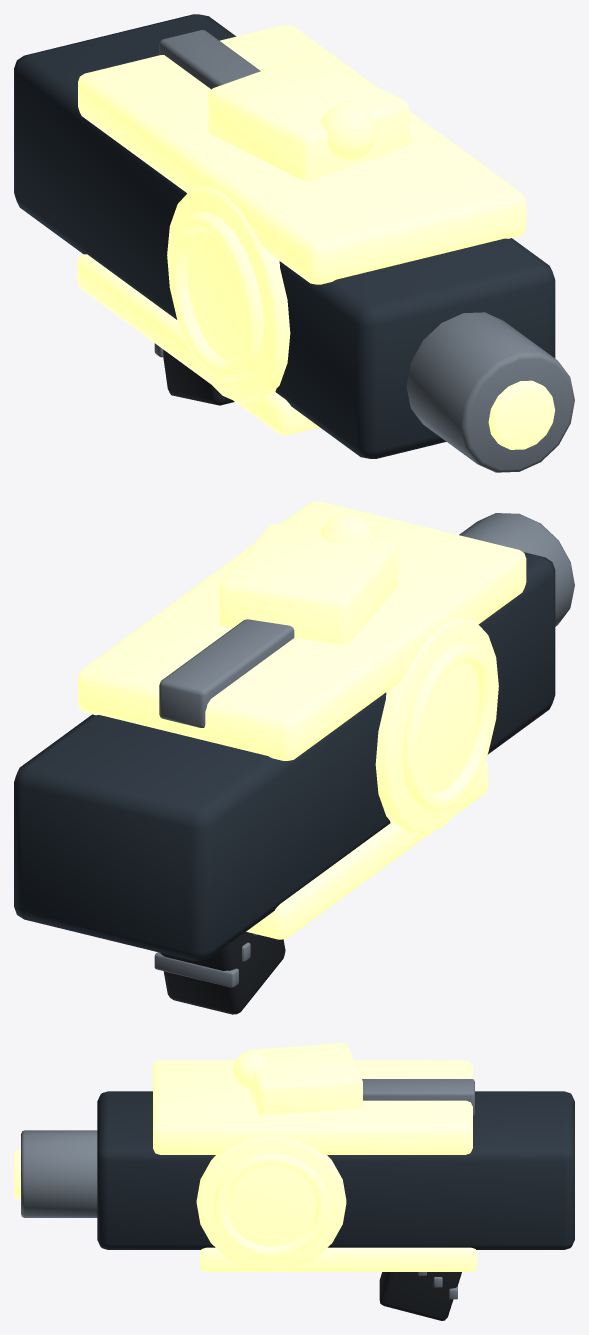
The model's file is Doombringer_SaberLauncher.fbx.
3 views of the same model, one above another, from view 1: azimuth 30°, elevation 25°; view 2: azimuth 150°, elevation 25°; view 3: azimuth 270°, elevation 25° (orthographic). The views are drawn at different scales.
Visible parts, largest first — view 1: Receiver.016, UpperArmor.008, Muzzle.008, GuidanceArray, EnergyChamber.008, EnergyRingLeft.008, LowerArmor.008, MuzzleGlow.008, TopRail.016, GuidanceEye, Grip.016; view 2: Receiver.016, UpperArmor.008, GuidanceArray, EnergyChamber.008, EnergyRingLeft.008, TopRail.016, LowerArmor.008, Grip.016, Muzzle.008, GripRib_03.016, GuidanceEye; view 3: Receiver.016, UpperArmor.008, EnergyChamber.008, GuidanceArray, Muzzle.008, LowerArmor.008, EnergyRingRight.008, Grip.016, TopRail.016, GuidanceEye.
Boxes of the visible parts, left/top/right/bottom form: Receiver.016: left=14, top=14, right=555, bottom=458; UpperArmor.008: left=78, top=25, right=526, bottom=284; Muzzle.008: left=406, top=312, right=574, bottom=472; GuidanceArray: left=208, top=55, right=409, bottom=180; EnergyChamber.008: left=167, top=186, right=290, bottom=403; EnergyRingLeft.008: left=169, top=211, right=263, bottom=381; LowerArmor.008: left=77, top=254, right=318, bottom=434; MuzzleGlow.008: left=488, top=380, right=555, bottom=449; TopRail.016: left=159, top=30, right=260, bottom=89; GuidanceEye: left=321, top=103, right=375, bottom=160; Grip.016: left=163, top=349, right=234, bottom=405; Receiver.016: left=14, top=552, right=555, bottom=960; UpperArmor.008: left=78, top=501, right=526, bottom=760; GuidanceArray: left=219, top=523, right=398, bottom=644; EnergyChamber.008: left=375, top=617, right=498, bottom=834; EnergyRingLeft.008: left=402, top=642, right=496, bottom=812; TopRail.016: left=159, top=619, right=294, bottom=727; LowerArmor.008: left=246, top=761, right=488, bottom=939; Grip.016: left=160, top=932, right=285, bottom=1014; Muzzle.008: left=459, top=513, right=574, bottom=626; GripRib_03.016: left=154, top=952, right=238, bottom=987; GuidanceEye: left=321, top=513, right=375, bottom=543; Receiver.016: left=97, top=1091, right=574, bottom=1249; UpperArmor.008: left=153, top=1060, right=472, bottom=1154; EnergyChamber.008: left=196, top=1136, right=346, bottom=1271; GuidanceArray: left=246, top=1043, right=362, bottom=1115; Muzzle.008: left=21, top=1130, right=97, bottom=1217; LowerArmor.008: left=200, top=1247, right=477, bottom=1271; EnergyRingRight.008: left=213, top=1153, right=329, bottom=1258; Grip.016: left=379, top=1272, right=461, bottom=1320; TopRail.016: left=362, top=1079, right=474, bottom=1116; GuidanceEye: left=233, top=1050, right=269, bottom=1089.
Bounding box in the file's own units: 148 × 221 × 435.
